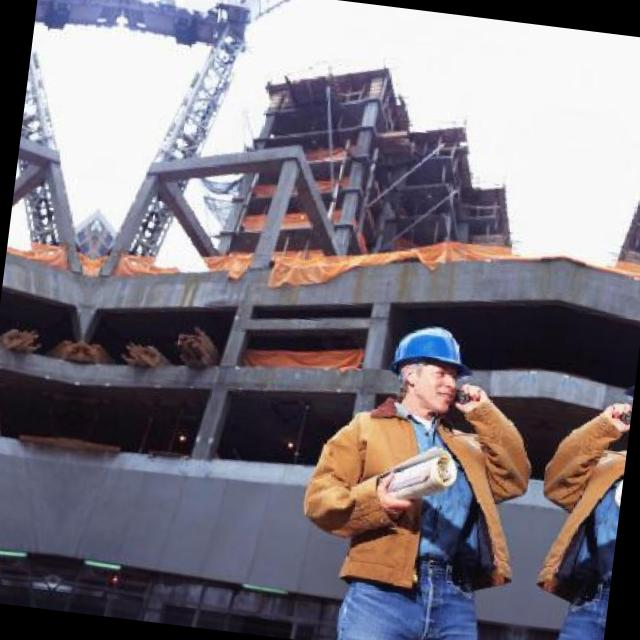helmet: (378, 310, 479, 422)
